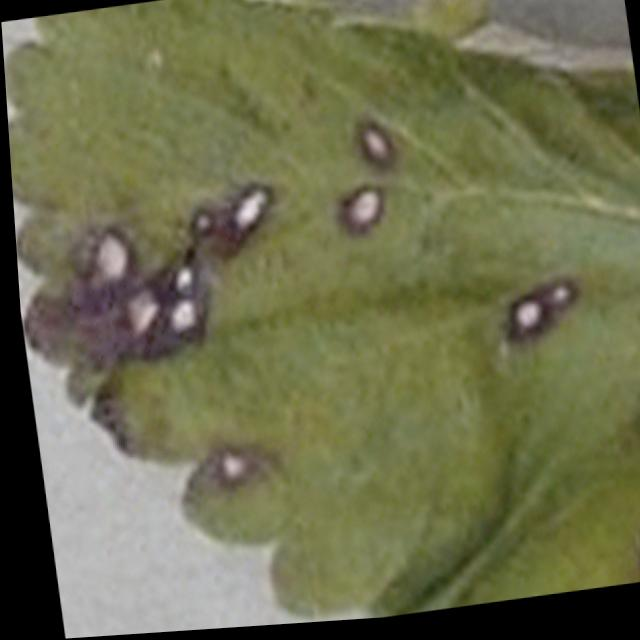Leaf Spot: (2, 0, 640, 626)
